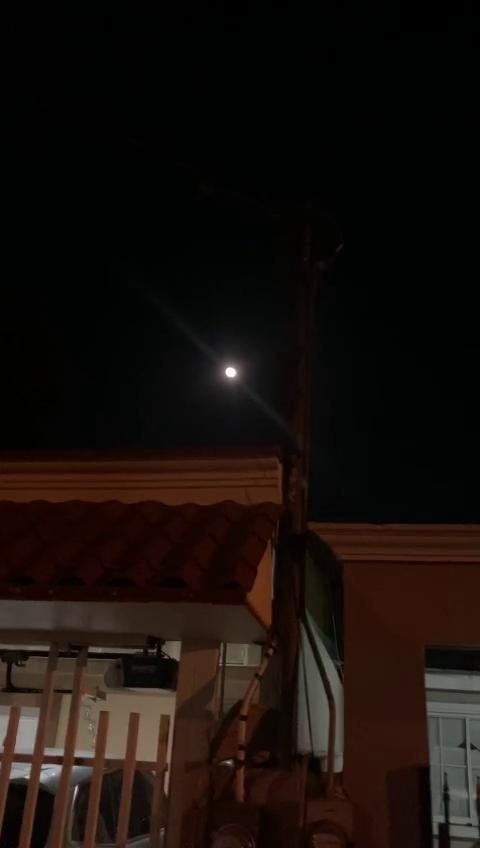moon: (219, 360, 245, 384)
